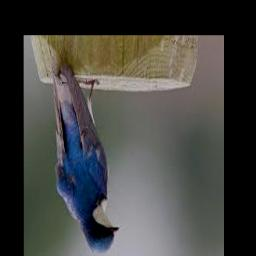Swallow: (53, 64, 118, 253)
